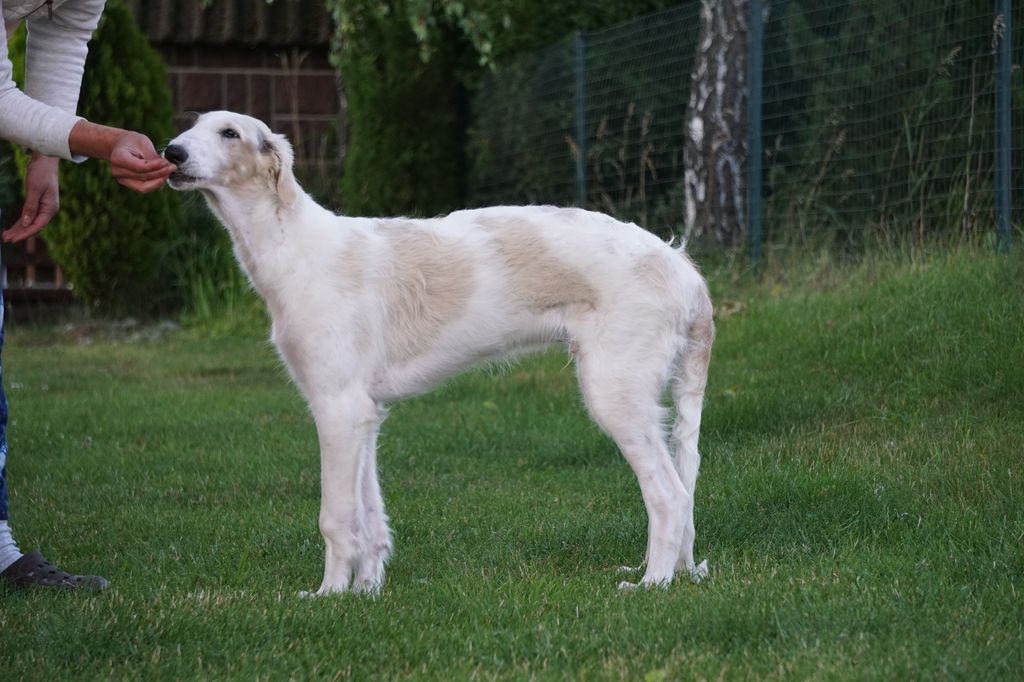borzoi: (152, 109, 723, 599)
